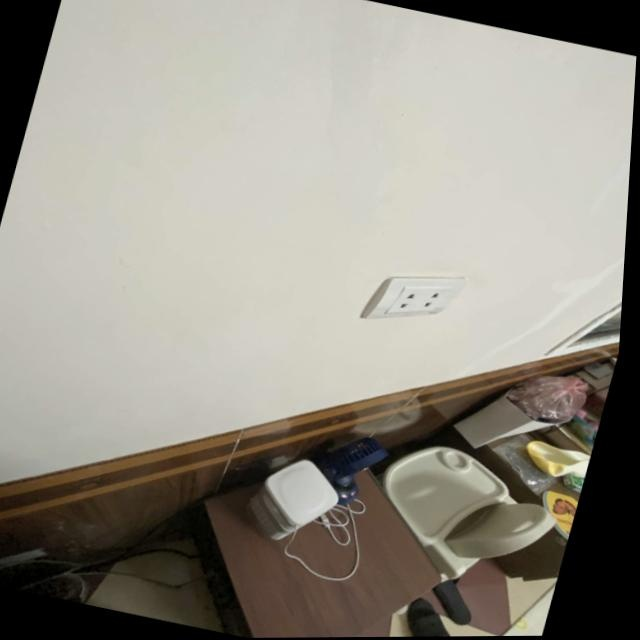outlet: (357, 256, 469, 337)
